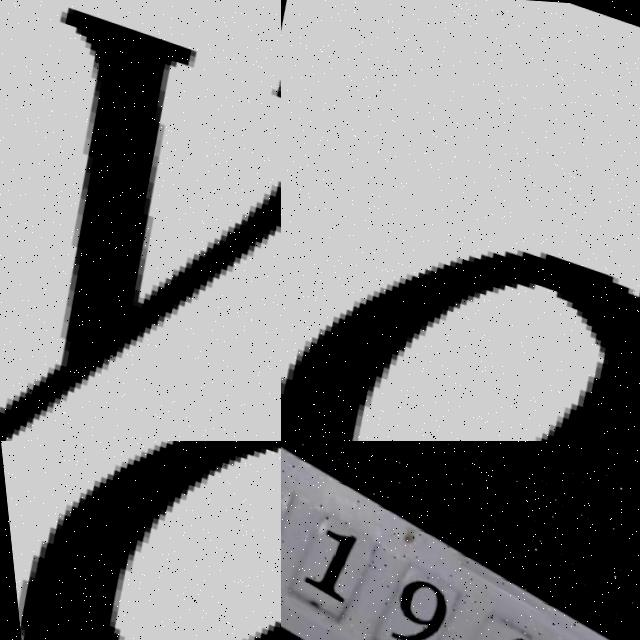1: (281, 488, 381, 619)
4: (432, 588, 544, 640)
9: (353, 543, 464, 640)
D: (281, 0, 640, 441), (0, 441, 281, 640)
Y: (0, 0, 281, 441)
